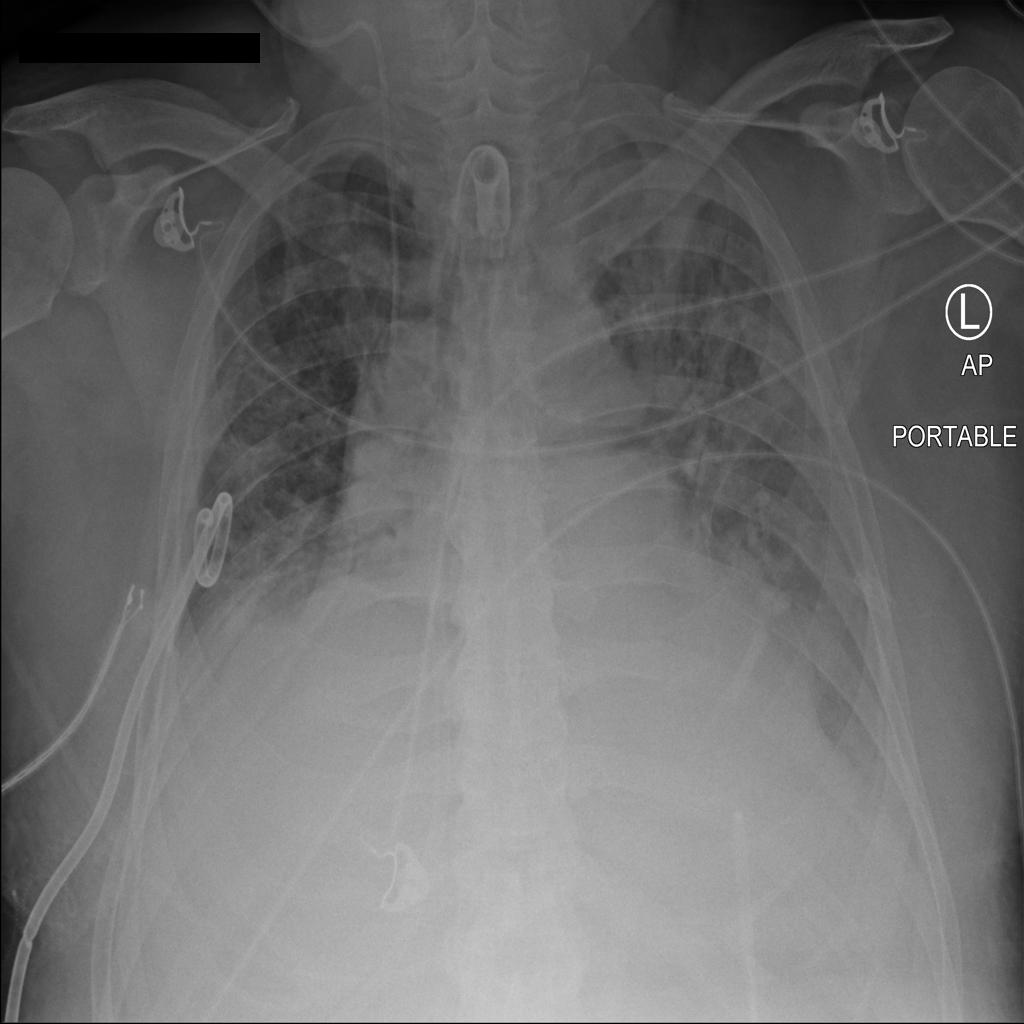Cardiomegaly: (311, 400, 816, 744)
